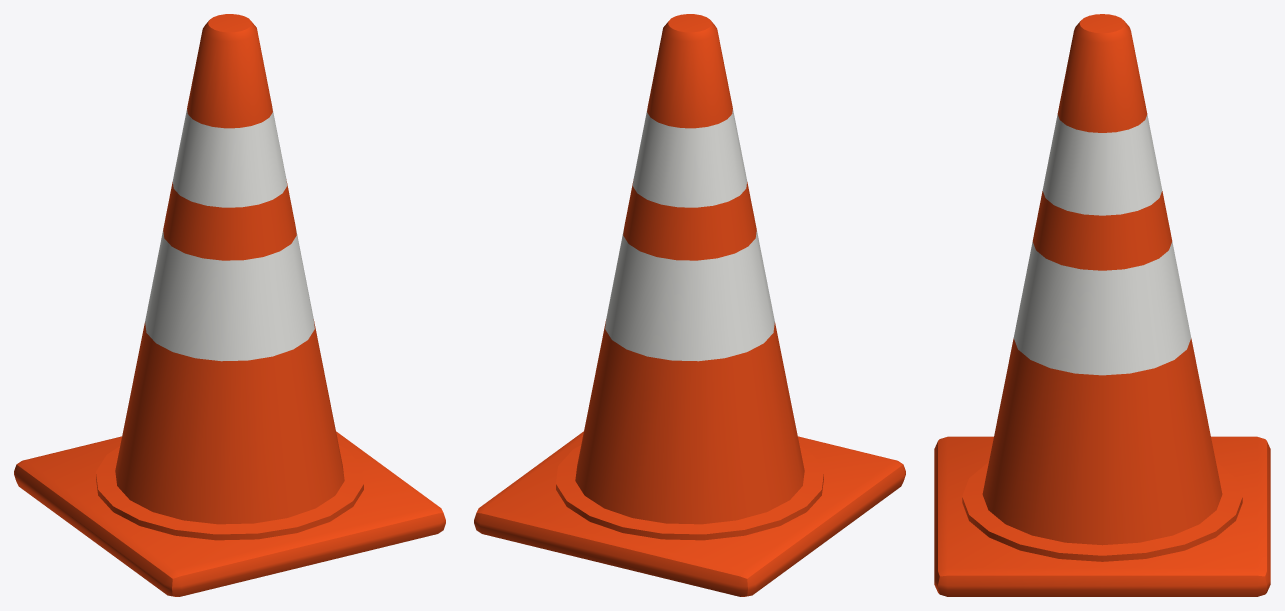
File: traffic-cone.glb
3 views of the same model, side by side, from view 1: azimuth 30°, elevation 25°; view 2: azimuth 150°, elevation 25°; view 3: azimuth 270°, elevation 25° (orthographic). The views are drawn at different scales.
Visible parts, largest first — view 1: traffic-cone; view 2: traffic-cone; view 3: traffic-cone.
Part boxes in pixels (box(x1,y1,x2,y2)): traffic-cone: box(14, 14, 445, 596); traffic-cone: box(474, 14, 905, 596); traffic-cone: box(934, 14, 1270, 596).
Size of the model in its own units: 0.3 by 0.5 by 0.3.
